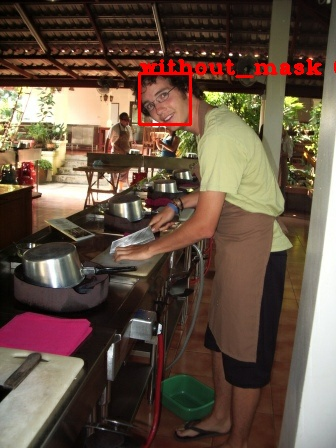without_mask: (138, 74, 203, 133), (119, 114, 133, 129)
